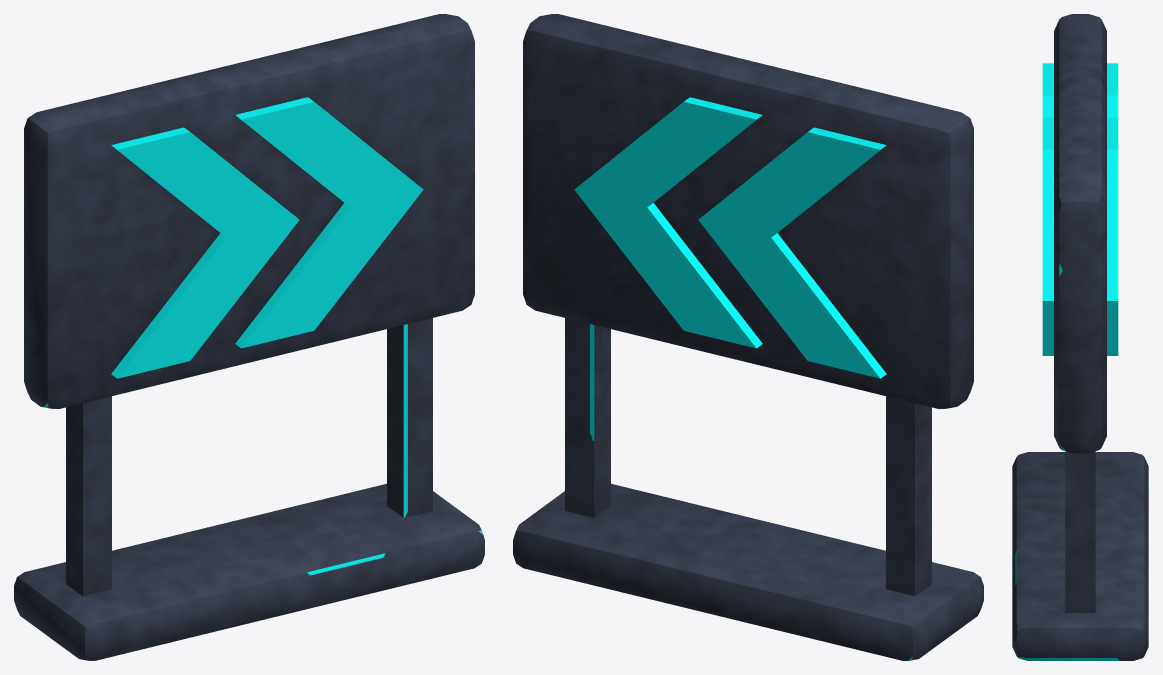
File: neon_arrow.fbx
The picture shows the model from 3 angles, left to right: view 1: azimuth 30°, elevation 25°; view 2: azimuth 150°, elevation 25°; view 3: azimuth 270°, elevation 25°; orthographic projection. The views are drawn at different scales.
Parts seen in each view (by area): view 1: neon_arrow, neon_arrow_glow; view 2: neon_arrow, neon_arrow_glow; view 3: neon_arrow, neon_arrow_glow.
Boxes of the visible parts, left/top/right/bottom form: neon_arrow: left=14, top=14, right=484, bottom=660; neon_arrow_glow: left=111, top=97, right=423, bottom=378; neon_arrow: left=513, top=14, right=983, bottom=660; neon_arrow_glow: left=574, top=97, right=886, bottom=378; neon_arrow: left=1012, top=14, right=1148, bottom=660; neon_arrow_glow: left=1042, top=63, right=1118, bottom=355.
Size of the model in its own units: 300 by 345 by 90.
1 material, 1 textured.
